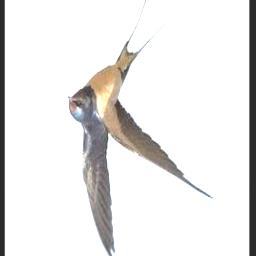Swallow: (68, 0, 215, 256)
